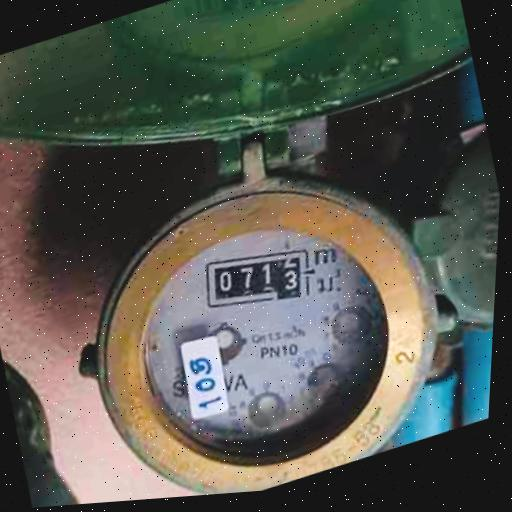0: (206, 261, 242, 303)
1: (247, 255, 286, 299)
3: (267, 253, 309, 304)
7: (227, 258, 263, 301)
border_water_meter_number: (193, 229, 320, 329)
